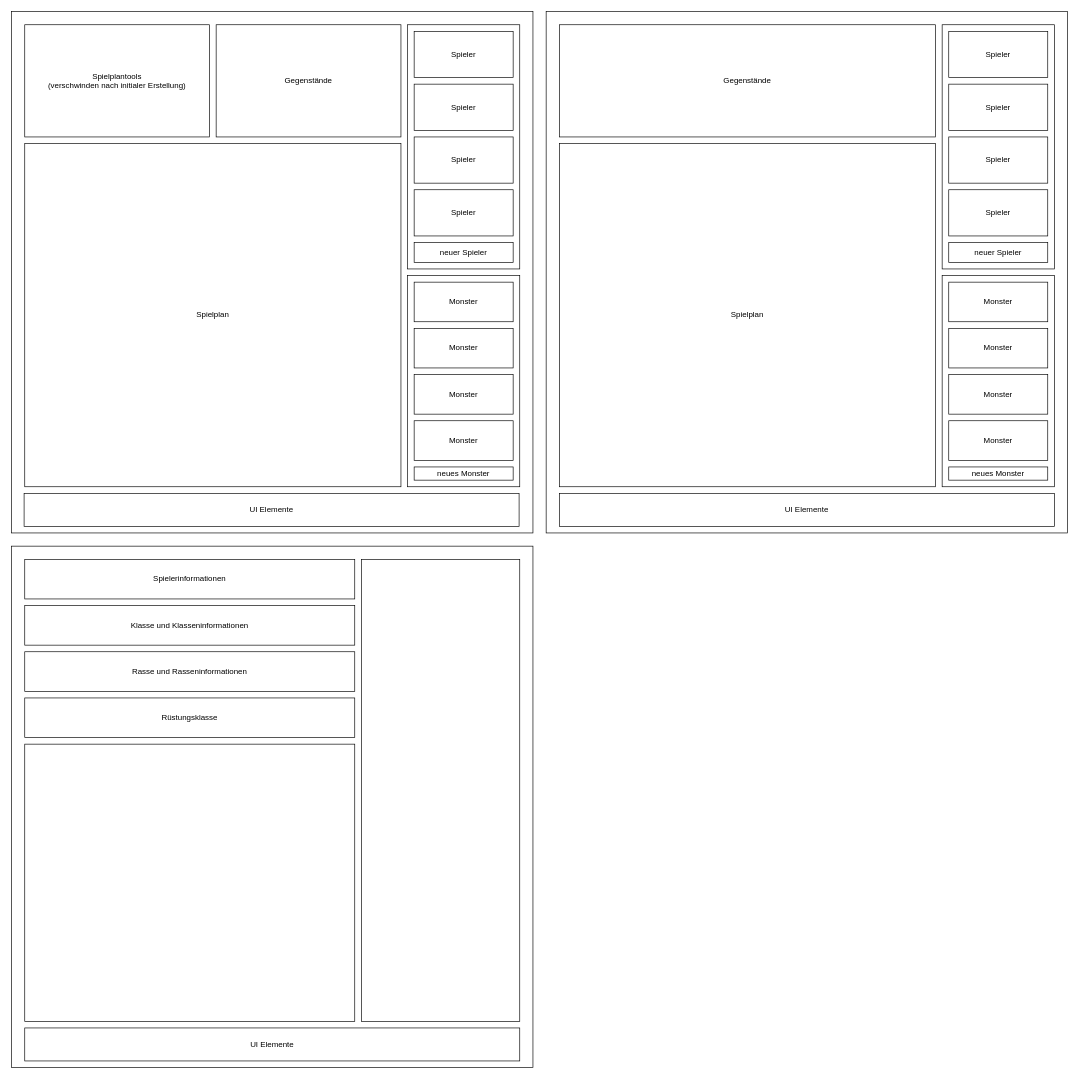
Some shapes in this 1079 by 1079 pixel diagram are drawn without their labels. The box of each missing label's shape, as (x1, y1, x2, y2) in pixels:
Charaktereigenschaften: (361, 559, 520, 1021)
Klassenbeschreibung: (24, 743, 355, 1021)
